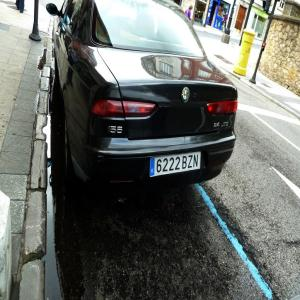Vehicle-registration-plate: (150, 154, 196, 177)
